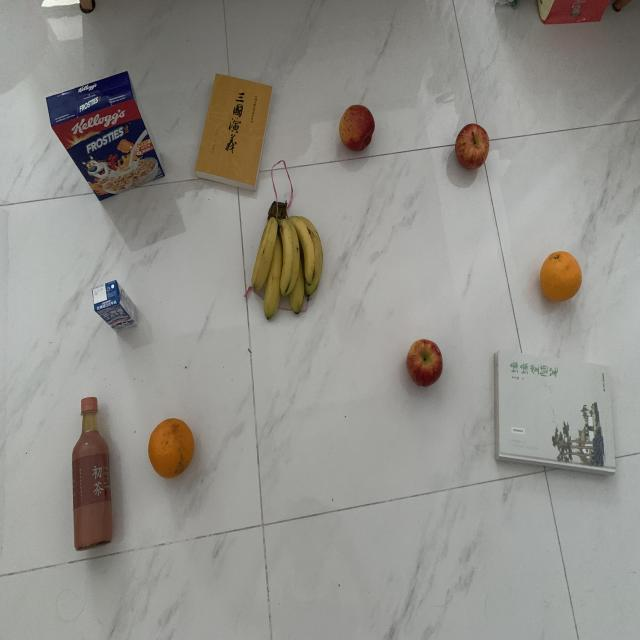Apple: (405, 337, 449, 389), (338, 103, 376, 157), (454, 122, 492, 173)
Banana: (248, 198, 328, 320)
Book: (491, 354, 621, 483), (195, 71, 273, 191)
Cerealbox: (40, 68, 167, 204)
Orange: (148, 416, 197, 483), (537, 249, 586, 307)
